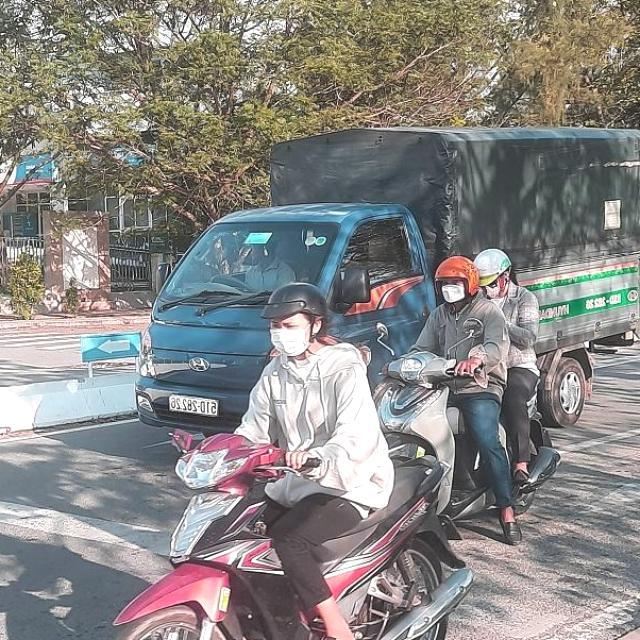Helmet: (267, 280, 328, 354), (431, 254, 479, 312), (477, 242, 518, 290)
